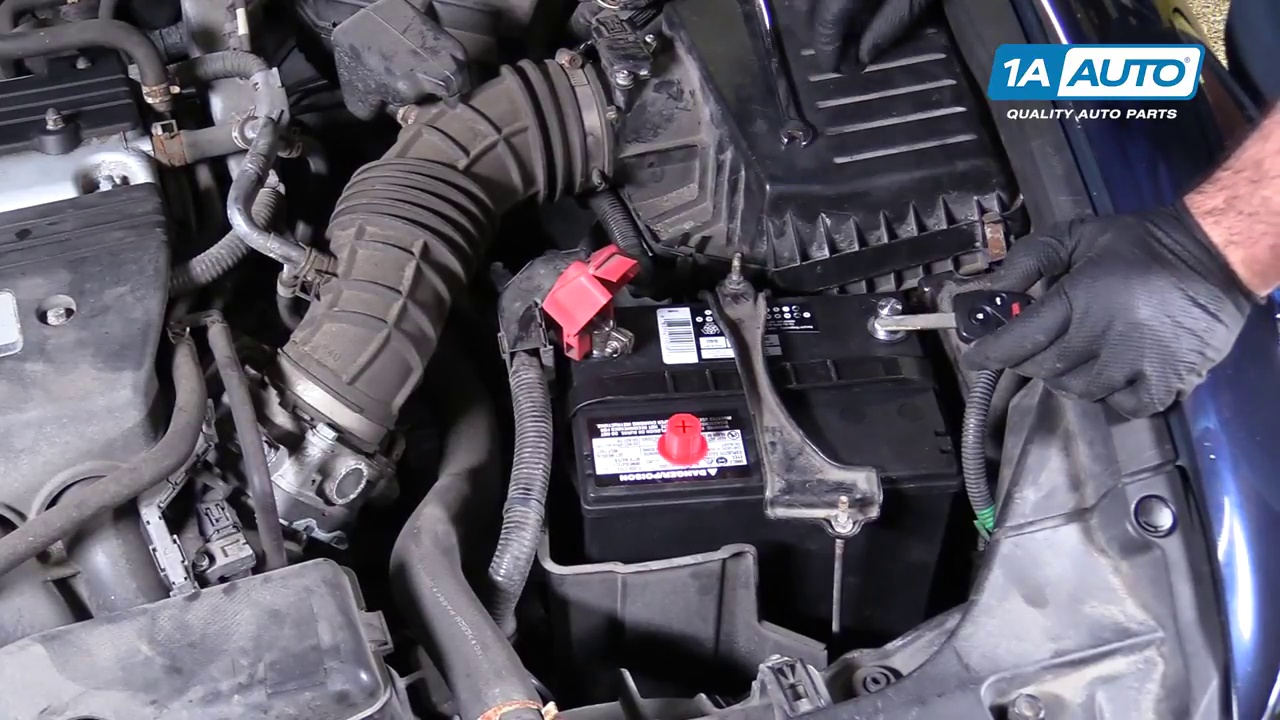battery: (555, 273, 971, 508)
neg_disconnected: (856, 260, 935, 359)
pos_connected: (517, 252, 663, 375)
